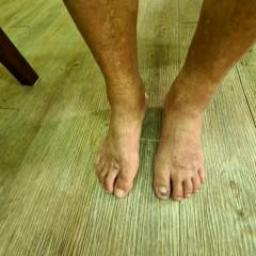Dorsal View -Both Feet-: (79, 47, 242, 220)
